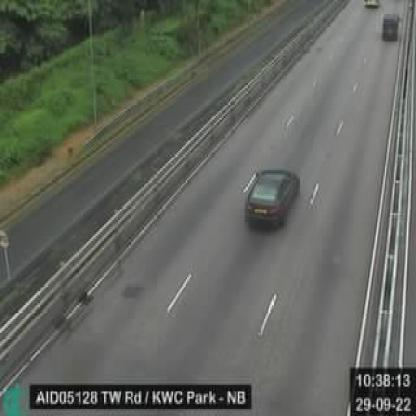Car: (241, 161, 304, 231), (376, 5, 403, 49), (363, 0, 381, 12)
